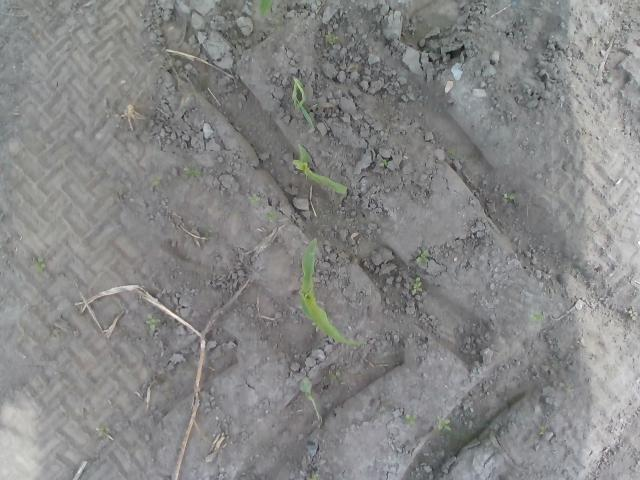Maize: (294, 237, 361, 350), (292, 145, 348, 195), (255, 0, 272, 16)
Weeds: (290, 74, 316, 126), (298, 375, 314, 401), (144, 312, 161, 331), (415, 247, 431, 264), (410, 276, 423, 296), (437, 416, 452, 432), (32, 255, 46, 272), (246, 192, 262, 206), (183, 166, 201, 178), (324, 30, 336, 44), (264, 211, 280, 221), (97, 425, 109, 437), (530, 311, 544, 321), (404, 414, 416, 425), (502, 192, 514, 202), (152, 176, 162, 186), (308, 473, 321, 480), (448, 146, 457, 156), (383, 159, 389, 167)
